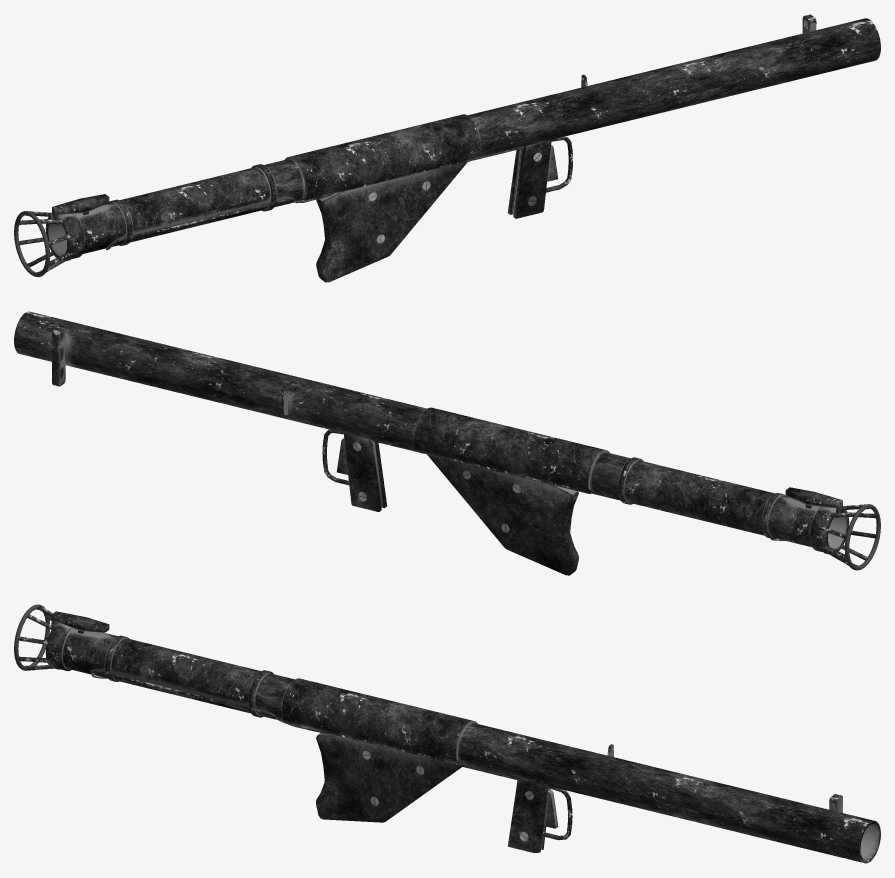
Rendered from bazoo.fbx.
3 renders of one model, top to bottom at view 1: azimuth 30°, elevation 25°; view 2: azimuth 150°, elevation 25°; view 3: azimuth 330°, elevation 25°, orthographic.
Parts seen in each view (by area): view 1: Cylinder.006; view 2: Cylinder.006; view 3: Cylinder.006.
Boxes of the visible parts, <box> form: Cylinder.006: <box>14,14,880,282</box>; Cylinder.006: <box>14,311,880,575</box>; Cylinder.006: <box>14,604,880,863</box>.
Size of the model in its own units: 200 by 31.63 by 14.01.
